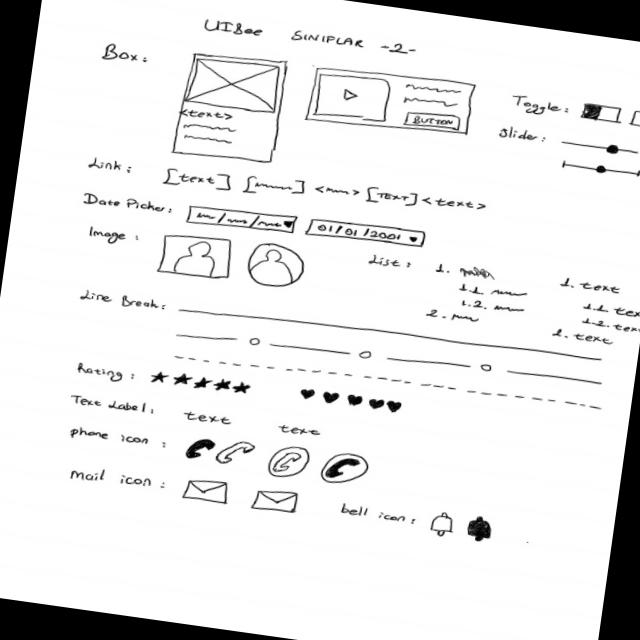button: (403, 108, 464, 135)
container: (171, 48, 293, 170), (304, 61, 479, 146)
icon-button: (157, 230, 237, 283), (246, 241, 309, 293), (320, 450, 372, 489), (267, 443, 314, 484)
image: (185, 54, 285, 117)
label: (201, 15, 420, 64), (82, 193, 177, 220), (69, 464, 156, 493), (67, 426, 153, 453), (78, 289, 169, 314), (68, 394, 159, 419), (339, 502, 419, 527), (510, 94, 574, 121), (76, 362, 139, 386), (85, 225, 142, 251), (101, 44, 153, 69), (499, 125, 549, 147), (89, 157, 135, 177), (275, 423, 325, 441), (370, 253, 412, 273), (184, 412, 235, 428), (579, 280, 624, 296), (572, 332, 615, 347), (614, 305, 640, 322), (611, 322, 640, 333)
link: (162, 165, 235, 196), (243, 173, 309, 203), (363, 186, 420, 212), (422, 196, 488, 215), (179, 108, 235, 125), (313, 185, 361, 201)
select: (305, 216, 430, 254), (186, 201, 301, 240)
slider: (560, 137, 640, 159), (561, 159, 640, 180)
text: (402, 96, 461, 113), (404, 83, 465, 99), (182, 121, 239, 137), (183, 133, 235, 148), (490, 287, 532, 302), (494, 305, 528, 317), (449, 314, 482, 325)
toggle: (580, 103, 625, 127), (630, 110, 640, 132)
